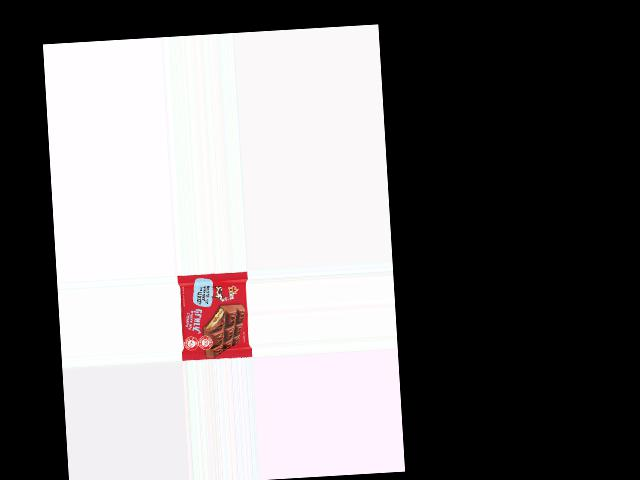chocolate: (176, 274, 251, 360)
